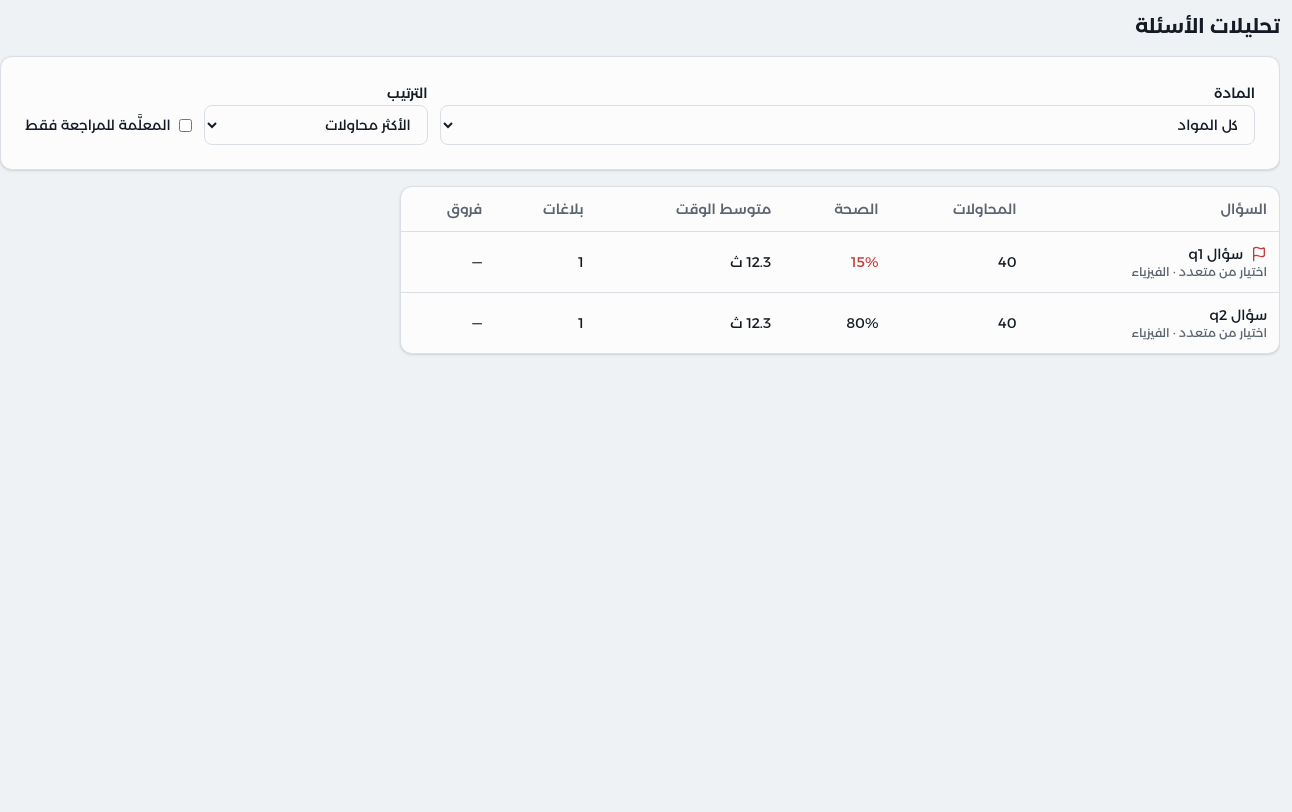
Scenario: question analytics (§26.2) › lists, filters flagged questions, shows the option spread and clears a flag
Expected: the text "سؤال q1" is shown, [1188,244,1243,264]
Expected: the number of icons named "معلَّم للمراجعة" is 1, [1251,246,1267,262]
Step 1. Click the checkbox labelled "المعلَّمة للمراجعة فقط" → (185, 125), box [179,118,192,132]
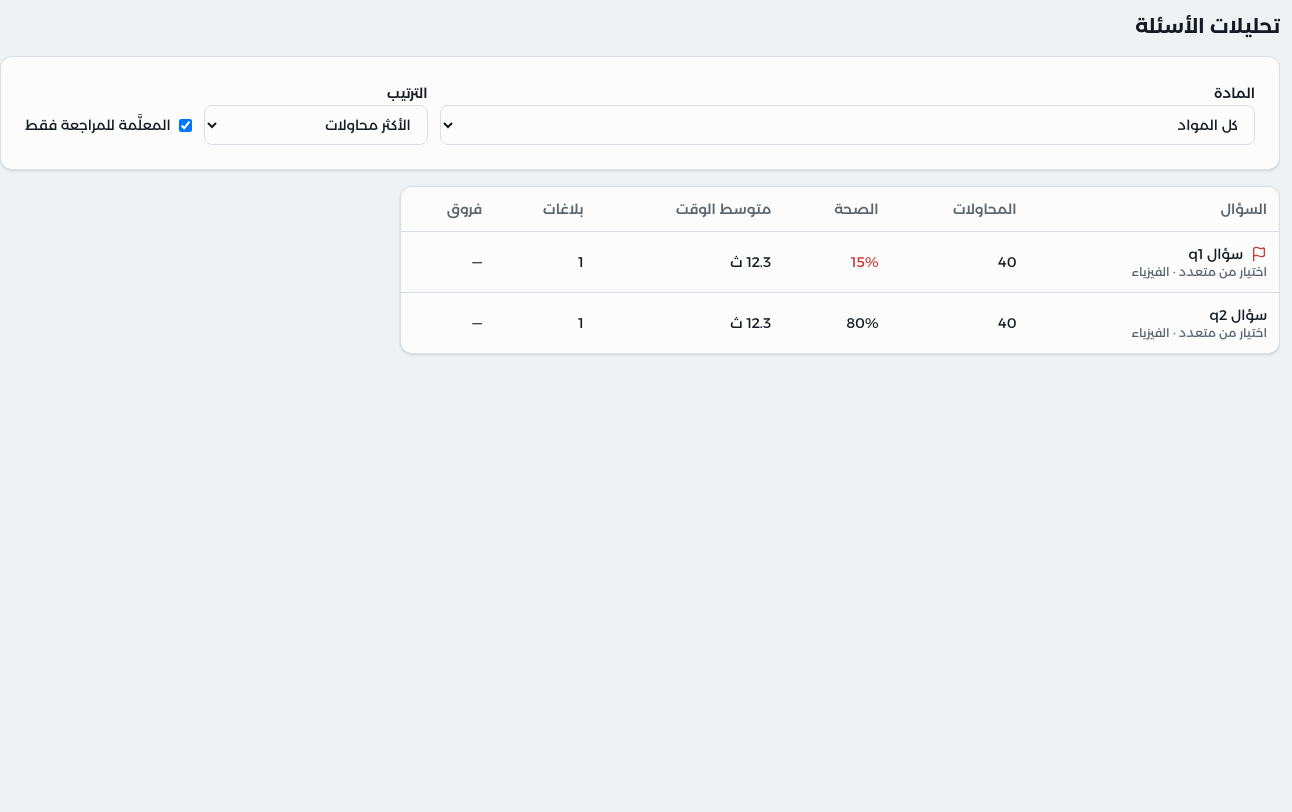
Step 2. Click the text "سؤال q1" → (1216, 254), box [1188,244,1243,264]
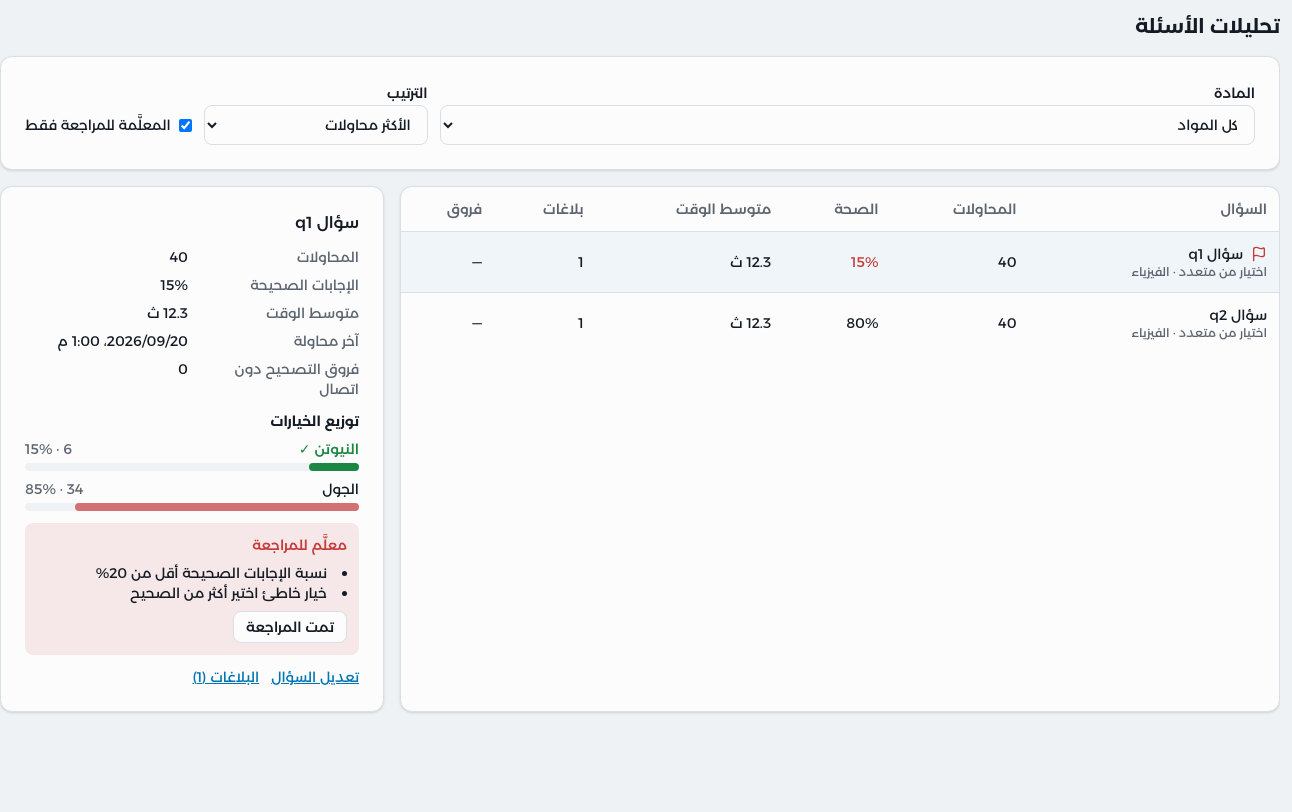
Expected: the list item "خيار خاطئ اختير أكثر من الصحيح" is shown, [130,584,327,602]
Expected: the text "34 · 85%" is shown, [25,479,83,499]
Step 3. Click the button "تمت المراجعة" → (290, 627), box [233,611,347,643]
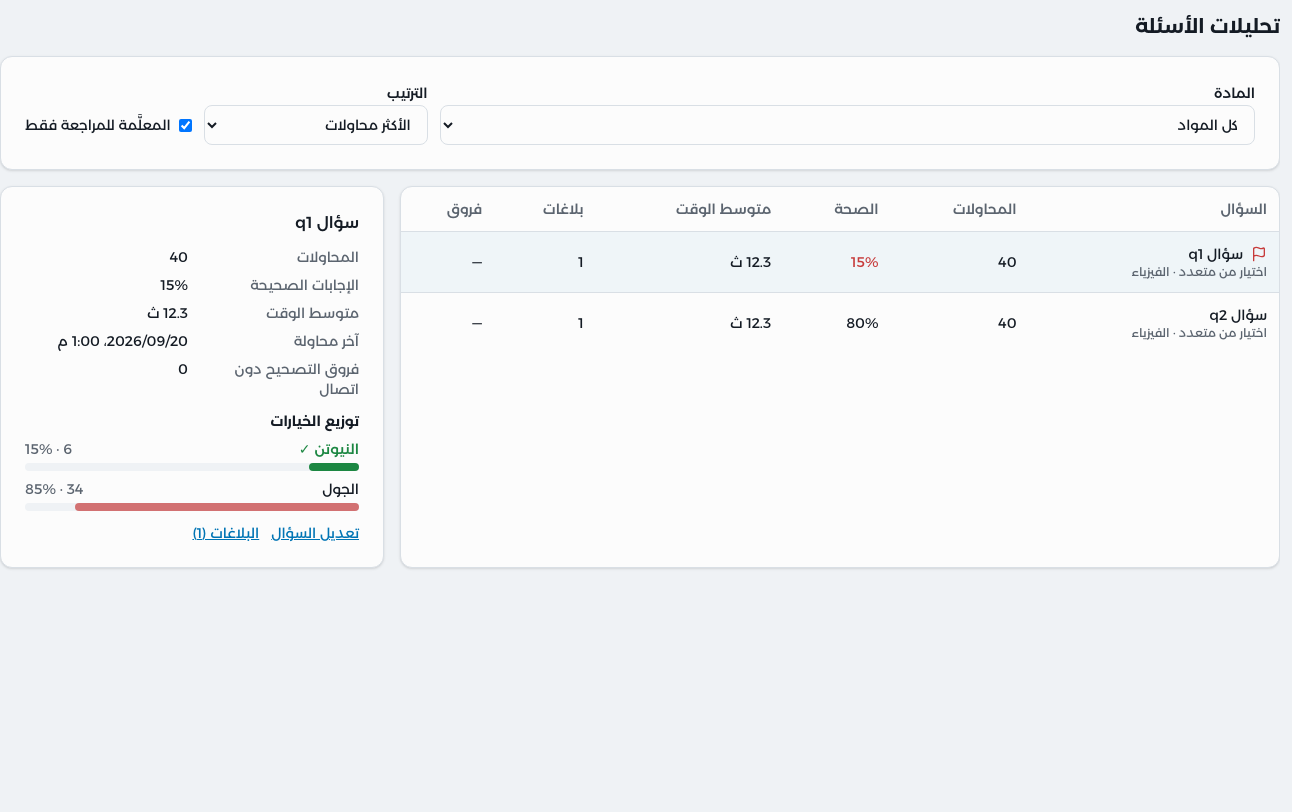
Expected: the text "معلَّم للمراجعة" is gone
